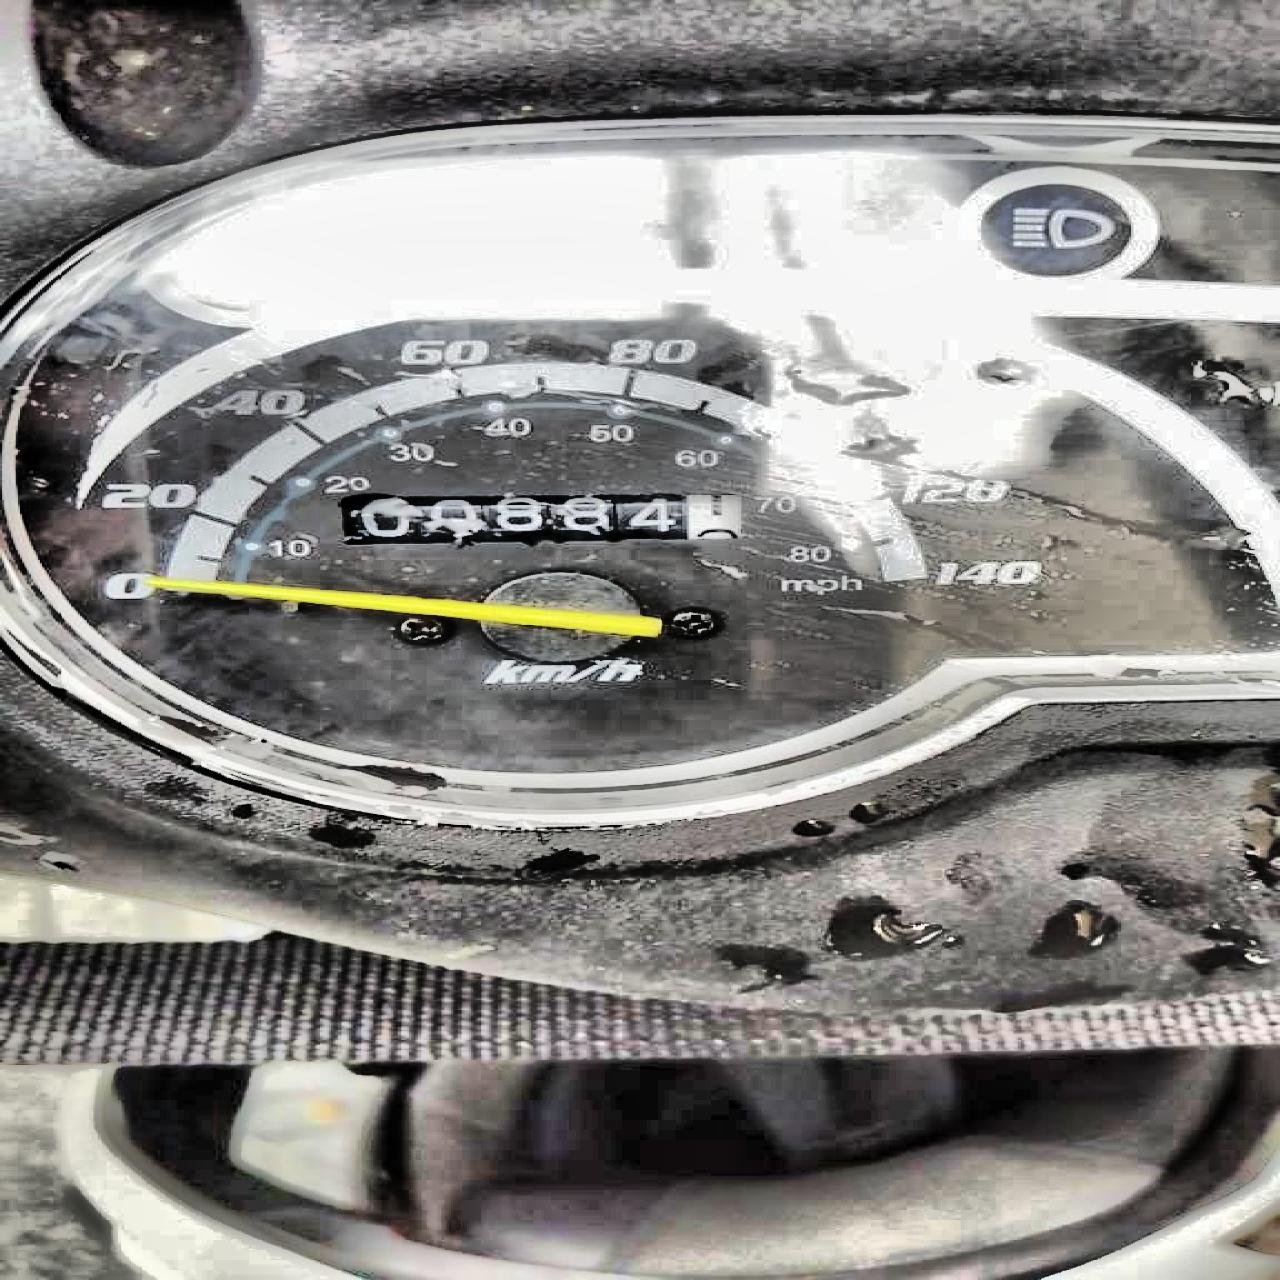0: (355, 496, 411, 540), (424, 496, 478, 539)
1: (697, 490, 731, 524)
4: (622, 497, 678, 537)
8: (489, 495, 547, 535), (556, 496, 606, 533)
odometer: (329, 490, 749, 544)
